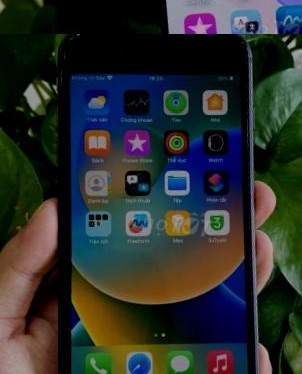scratch: (53, 45, 73, 92), (113, 44, 131, 56), (236, 37, 248, 47)
